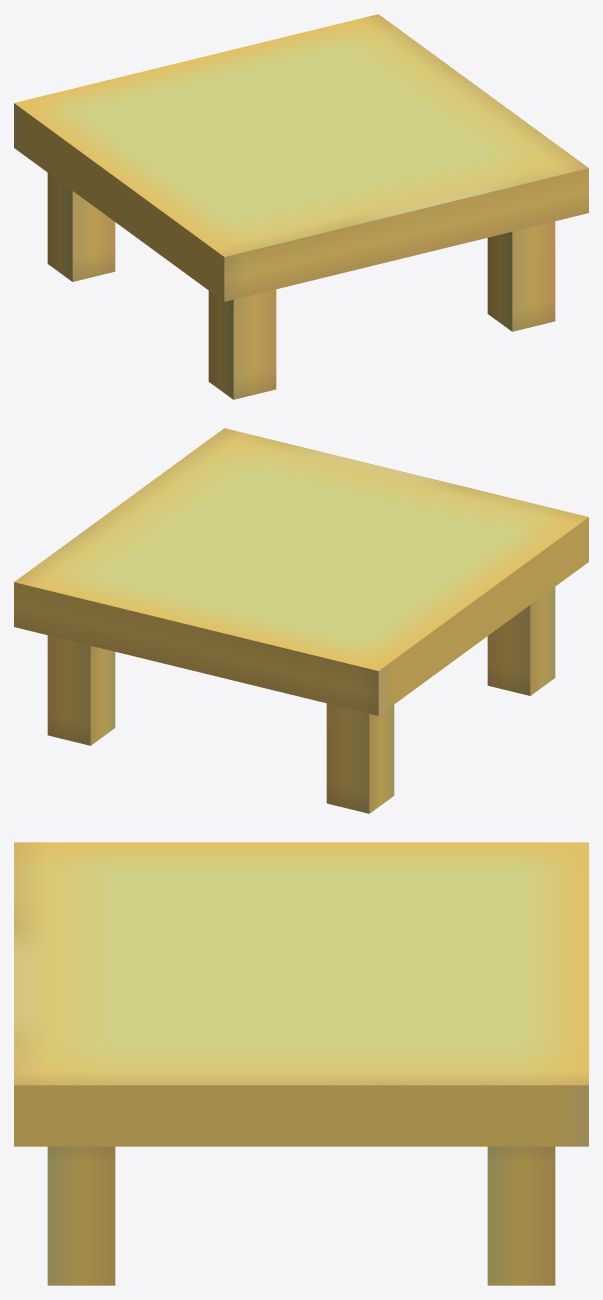
Rendered from KiddieTableYellow_00.fbx.
3 renders of one model, top to bottom at view 1: azimuth 30°, elevation 25°; view 2: azimuth 150°, elevation 25°; view 3: azimuth 270°, elevation 25°, orthographic. The views are drawn at different scales.
Parts seen in each view (by area): view 1: KiddieTableYellow_00; view 2: KiddieTableYellow_00; view 3: KiddieTableYellow_00.
Boxes of the visible parts, bbox=[...] form: KiddieTableYellow_00: bbox=[14, 14, 588, 399]; KiddieTableYellow_00: bbox=[14, 428, 588, 813]; KiddieTableYellow_00: bbox=[14, 842, 588, 1285].
Bounding box in the file's own units: 85 × 85 × 35.
1 material, 1 textured.
